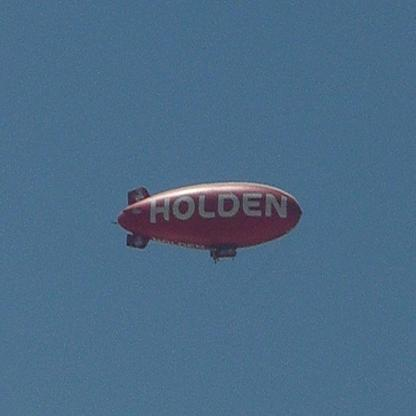Airship: (116, 183, 306, 265)
